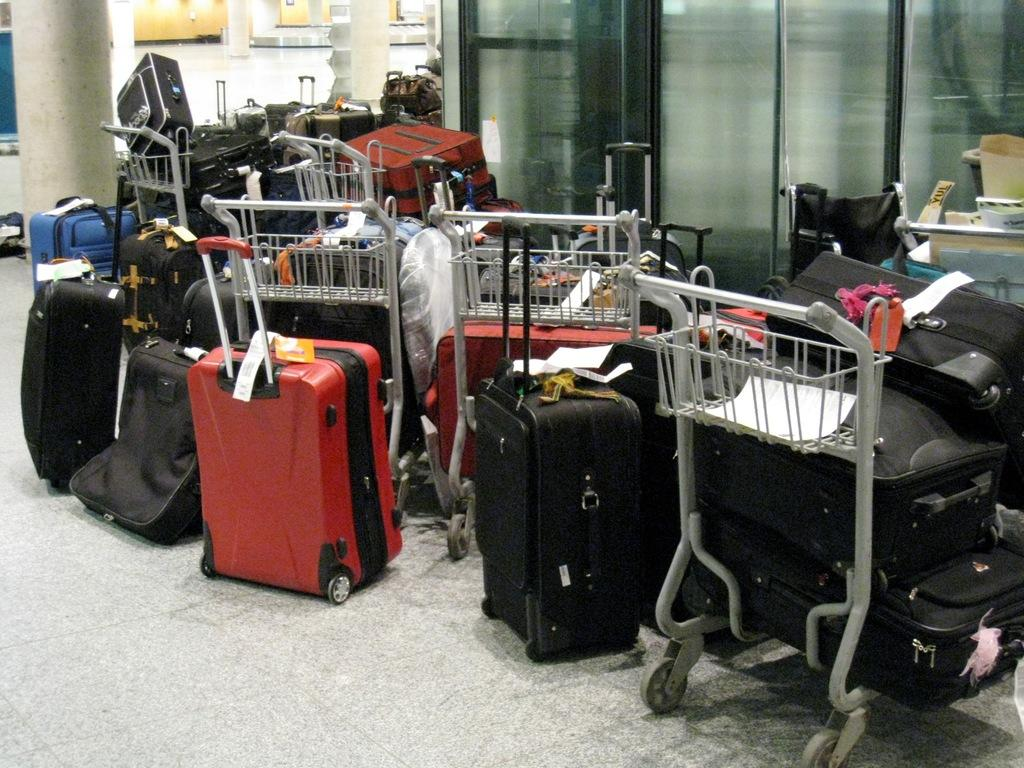Luggage-and-bags: (22, 65, 1023, 701), (202, 236, 403, 601)
